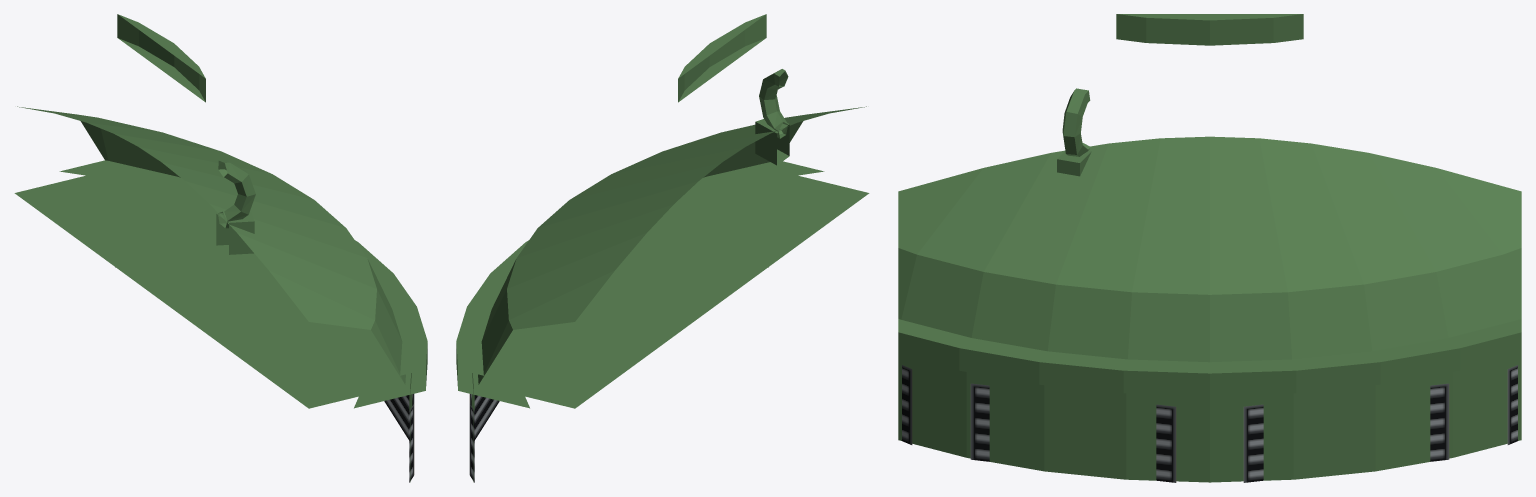
File: cell_68.obj
3 views of the same model, side by side, from view 1: azimuth 30°, elevation 25°; view 2: azimuth 150°, elevation 25°; view 3: azimuth 270°, elevation 25° (orthographic). The views are drawn at different scales.
Bounding box in the file's own units: 0.3858 × 0.6618 × 1.
